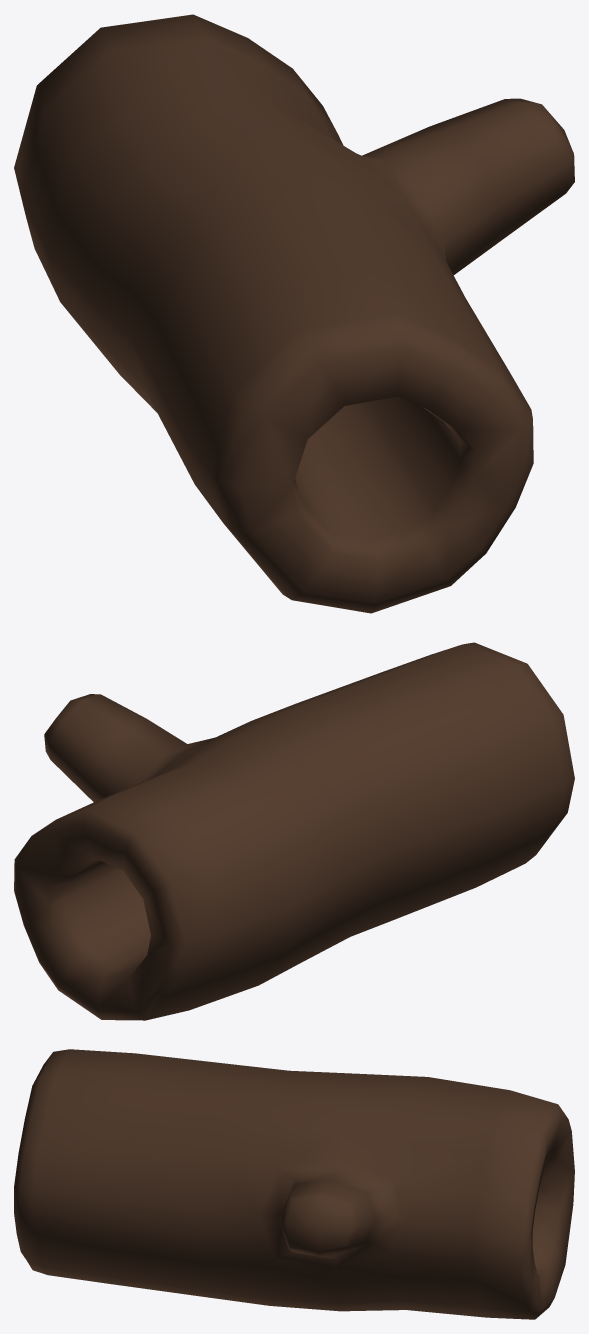
File: shuzhuang03.fbx
3 views of the same model, one above another, from view 1: azimuth 30°, elevation 25°; view 2: azimuth 150°, elevation 25°; view 3: azimuth 270°, elevation 25° (orthographic). The views are drawn at different scales.
Visible parts, largest first — view 1: Log_02_LOD1_Mat_Nature_0.003; view 2: Log_02_LOD1_Mat_Nature_0.003; view 3: Log_02_LOD1_Mat_Nature_0.003.
Part boxes in pixels (left/top/right/bottom): Log_02_LOD1_Mat_Nature_0.003: left=14, top=14, right=574, bottom=613; Log_02_LOD1_Mat_Nature_0.003: left=14, top=642, right=574, bottom=1020; Log_02_LOD1_Mat_Nature_0.003: left=14, top=1049, right=574, bottom=1319.
Bounding box in the file's own units: 1.05 × 0.5778 × 1.43.
